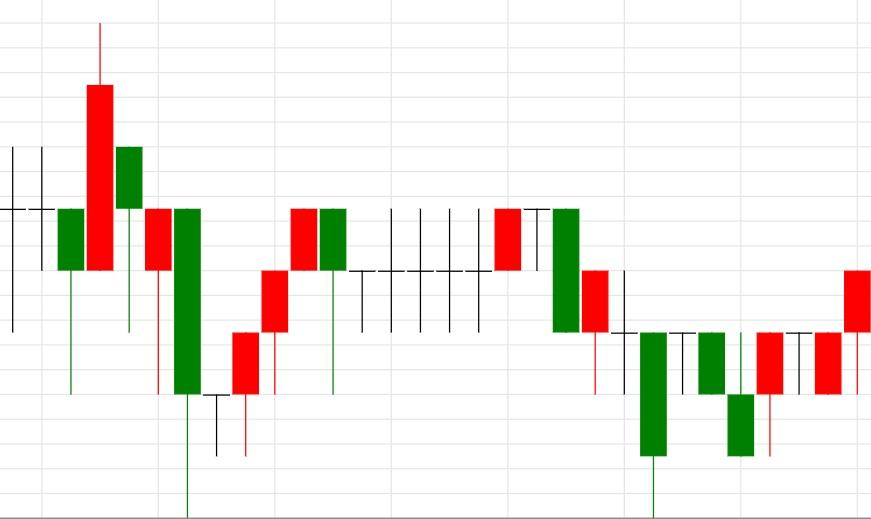morning_star_rise: (85, 22, 260, 519)
three_white_soldiers_rise: (85, 21, 318, 519)
